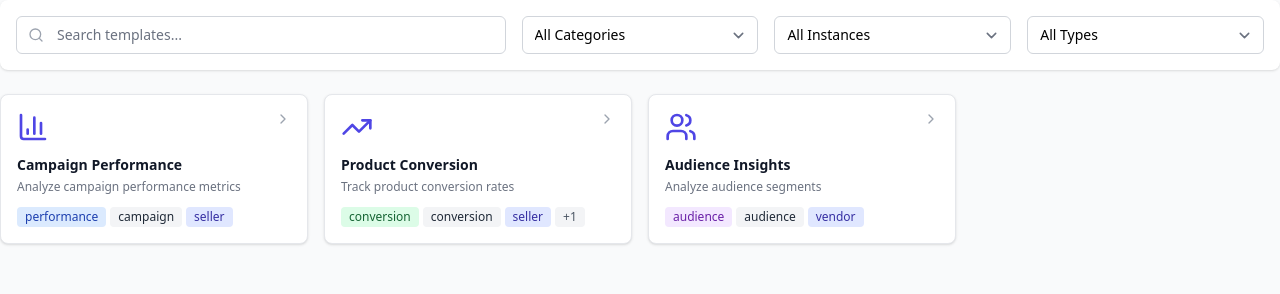
Test: TemplateGrid › filters templates by instance type
The image size is (1280, 294).
Select "Vendor" in the 2nd dropdown named "Instance Type" at (893, 35), box left=774, top=16, right=1011, bottom=54
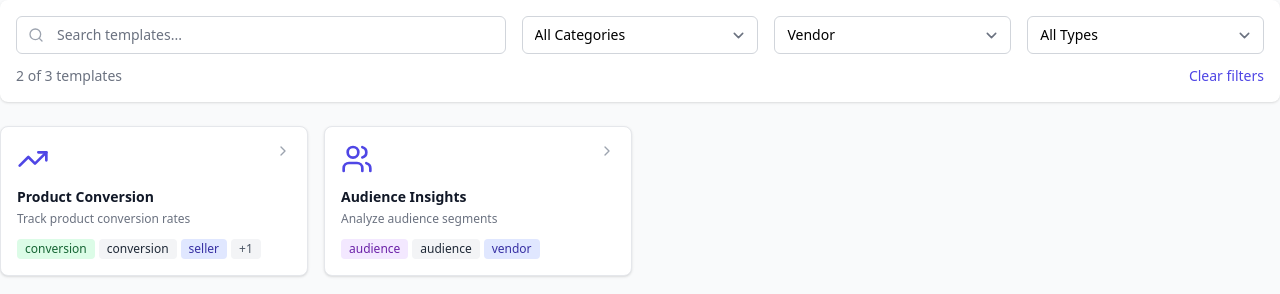
Expected: the heading "Product Conversion" is shown, left=17, top=187, right=154, bottom=206
Now the button "Campaign Performance" is gone
